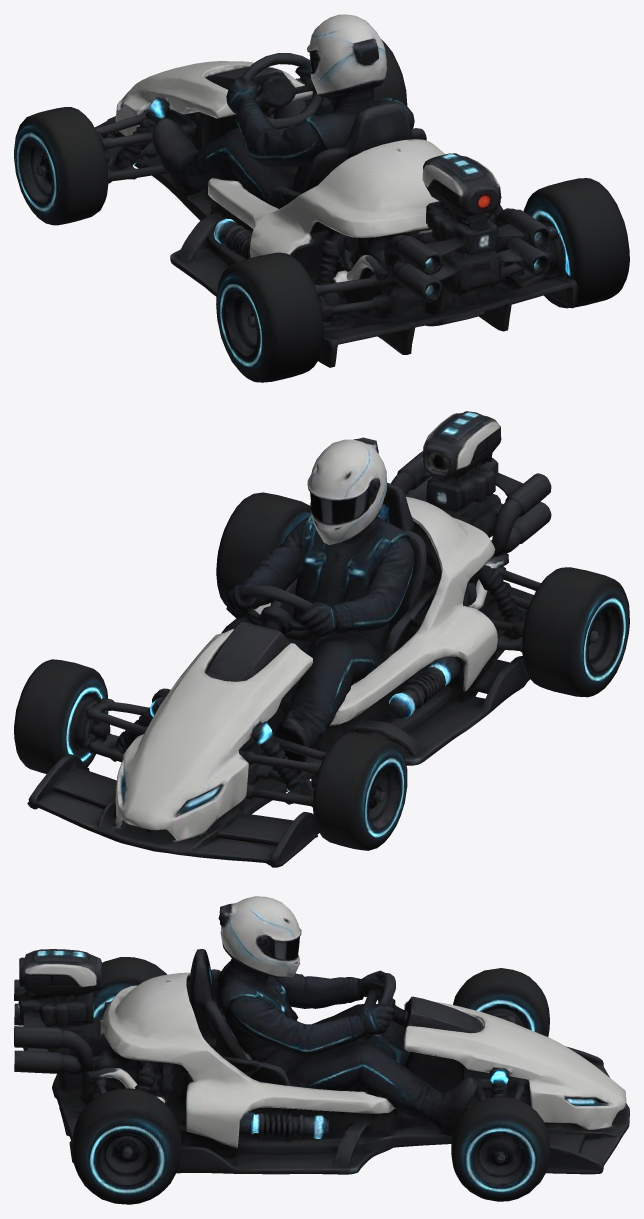
File: animus-final.glb
The picture shows the model from 3 angles, top to bottom: view 1: azimuth 30°, elevation 25°; view 2: azimuth 150°, elevation 25°; view 3: azimuth 270°, elevation 25°; orthographic projection. The views are drawn at different scales.
Visible parts, largest first — view 1: chassis, wheel-rl, wheel-rr, wheel-fl, wheel-fr; view 2: chassis, wheel-rl, wheel-fl, wheel-fr, wheel-rr; view 3: chassis, wheel-rr, wheel-fr, wheel-fl, wheel-rl.
Boxes of the visible parts, x1,y1,x2,y2 form: chassis: (94,14,578,367); wheel-rl: (216,252,338,382); wheel-rr: (523,178,629,308); wheel-fl: (14,107,108,225); wheel-fr: (373,39,407,105); chassis: (27,411,551,867); wheel-rl: (515,567,629,697); wheel-fl: (313,732,407,850); wheel-fr: (14,659,108,773); wheel-rr: (216,492,311,605); chassis: (14,896,629,1174); wheel-rr: (70,1088,181,1204); wheel-fr: (451,1096,549,1201); wheel-fl: (453,968,549,1036); wheel-rl: (93,957,166,1017).
Bounding box in the file's own units: 2.71 × 1.87 × 4.5.
Materials: 1 (1 with a texture image).
